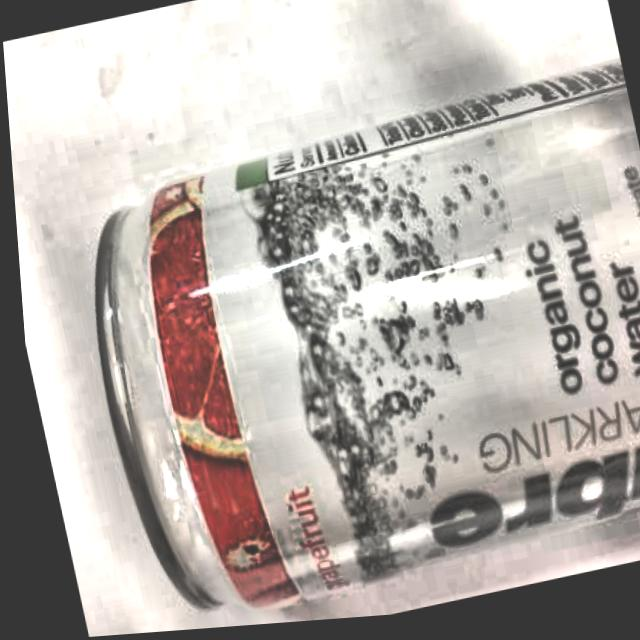Cans: (38, 50, 640, 637)
